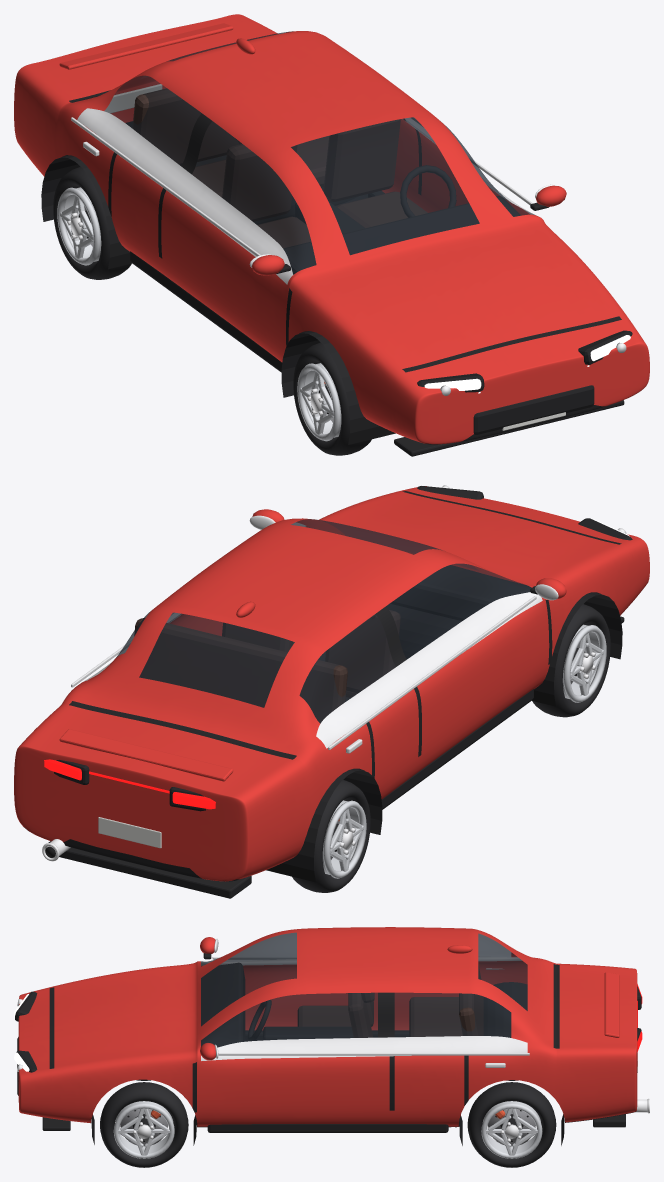
Rendered from regent.glb.
3 renders of one model, top to bottom at view 1: azimuth 30°, elevation 25°; view 2: azimuth 150°, elevation 25°; view 3: azimuth 270°, elevation 25°, orthographic. The views are drawn at different scales.
Visible parts, largest first — view 1: body, wheel_fr, wheel_rr; view 2: body, wheel_fr, wheel_rr; view 3: body, wheel_fl, wheel_rl.
Part boxes in pixels (<box>): body: <box>14,14,649,456</box>; wheel_fr: <box>293,342,371,455</box>; wheel_rr: <box>53,167,131,279</box>; body: <box>14,485,649,898</box>; wheel_fr: <box>532,604,610,717</box>; wheel_rr: <box>292,780,370,892</box>; body: <box>14,927,649,1145</box>; wheel_fl: <box>100,1082,188,1167</box>; wheel_rl: <box>467,1082,556,1167</box>.
Size of the model in its own units: 2.18 by 1.54 by 5.02.
